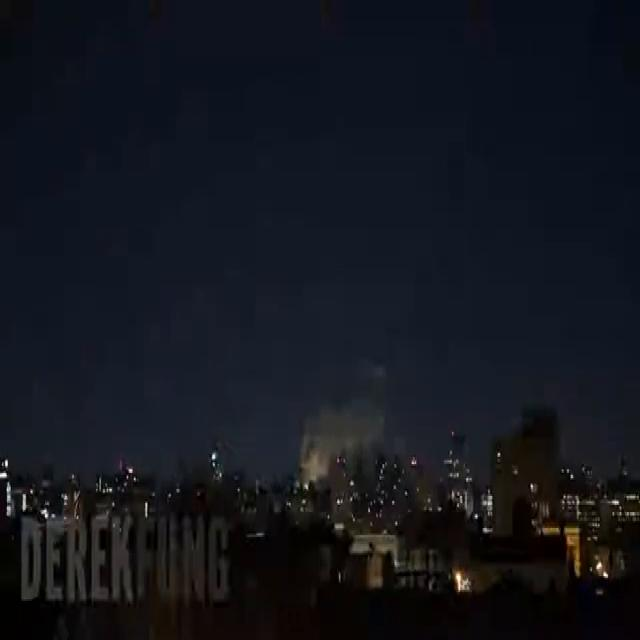smoke: (299, 363, 404, 480)
